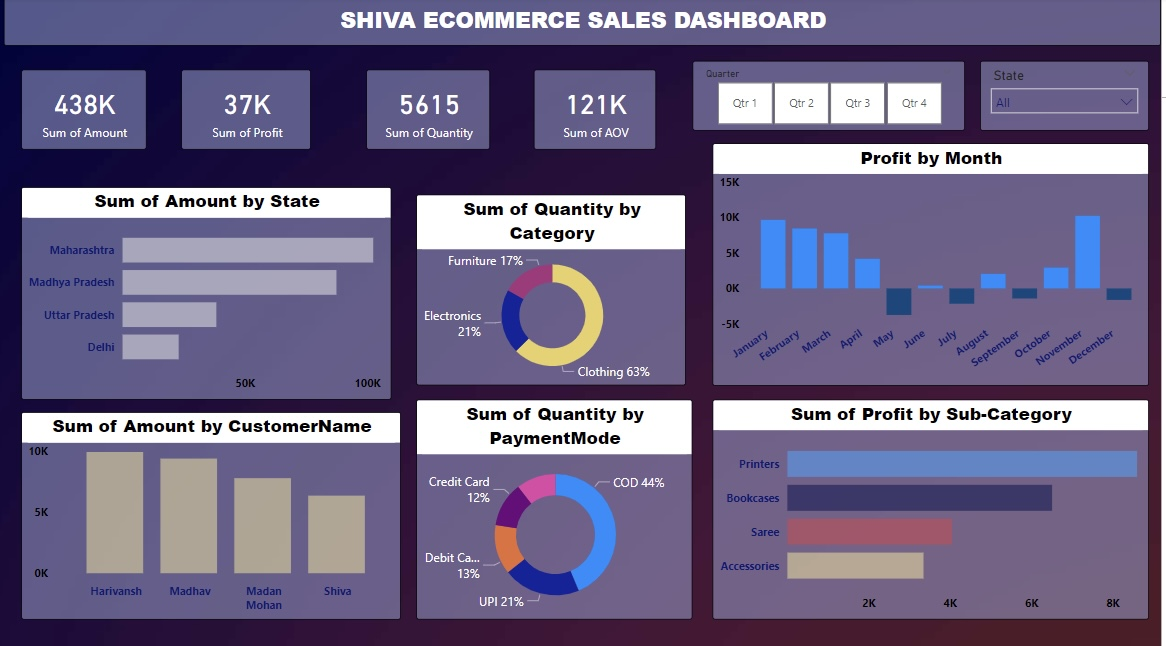

What the dashboard file says about the page in this screenshot:
{"tool":"powerbi","page":{"name":"Page 1","canvas":[1280,720],"ordinal":0},"visuals":[{"type":"textbox","box":[9.6,0,1270.7,53.5],"z":0},{"type":"columnChart","title":"Profit by Month","fields":{"Y":["Details.Profit"],"Category":["Orders.Order Date.Variation.Date Hierarchy.Month"]},"box":[787.7,160.5,478.9,266.2],"z":1000},{"type":"barChart","fields":{"Category":["Details.Sub-Category"],"Y":["Details.Profit"]},"box":[787.7,441.9,478.9,241.5],"z":2000},{"type":"donutChart","fields":{"Category":["Details.Category"],"Y":["Details.Quantity"]},"box":[462.4,216.8,296.4,209.9],"z":3000},{"type":"donutChart","fields":{"Y":["Details.Quantity"],"Category":["Details.PaymentMode"]},"box":[462.4,441.9,303.3,241.5],"z":4000},{"type":"card","fields":{"Values":["Details.Amount"]},"box":[28.8,79.6,137.2,87.8],"z":4001},{"type":"card","fields":{"Values":["Details.Profit"]},"box":[204.5,79.6,142.7,87.8],"z":4002},{"type":"card","fields":{"Values":["Details.Quantity"]},"box":[407.5,79.6,135.8,87.8],"z":4003},{"type":"card","fields":{"Values":["Details.AOV"]},"box":[591.4,79.6,134.5,87.8],"z":4004},{"type":"barChart","fields":{"Y":["Details.Amount"],"Category":["Orders.State"]},"box":[28.8,208.6,406.2,233.3],"z":4005},{"type":"columnChart","fields":{"Category":["Orders.CustomerName"],"Y":["Details.Amount"]},"box":[28.8,455.6,417.2,227.8],"z":4006},{"type":"slicer","fields":{"Values":["Orders.Order Date.Variation.Date Hierarchy.Quarter"]},"box":[765.7,70,299.1,76.8],"z":4007},{"type":"slicer","fields":{"Values":["Orders.State"]},"box":[1081.3,70,185.2,76.8],"z":4008}]}

Visuals, with their boxes in screenshot pixels (x1, y1, x2, y2), scaled from the page's 1280x720 canvas onto the 1166x646 screenshot:
textbox: region(9, 0, 1165, 48)
"Profit by Month" columnChart: region(718, 144, 1154, 383)
barChart - Details.Sub-Category x Details.Profit: region(718, 396, 1154, 613)
donutChart - Details.Category x Details.Quantity: region(421, 195, 691, 383)
donutChart - Details.Quantity x Details.PaymentMode: region(421, 396, 698, 613)
card - Details.Amount: region(26, 71, 151, 150)
card - Details.Profit: region(186, 71, 316, 150)
card - Details.Quantity: region(371, 71, 495, 150)
card - Details.AOV: region(539, 71, 661, 150)
barChart - Details.Amount x Orders.State: region(26, 187, 396, 396)
columnChart - Orders.CustomerName x Details.Amount: region(26, 409, 406, 613)
slicer - Orders.Order Date.Variation.Date Hierarchy.Quarter: region(698, 63, 970, 132)
slicer - Orders.State: region(985, 63, 1154, 132)
